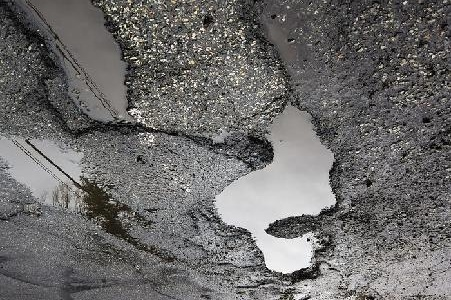pothole: (206, 99, 343, 287), (0, 0, 154, 140)
